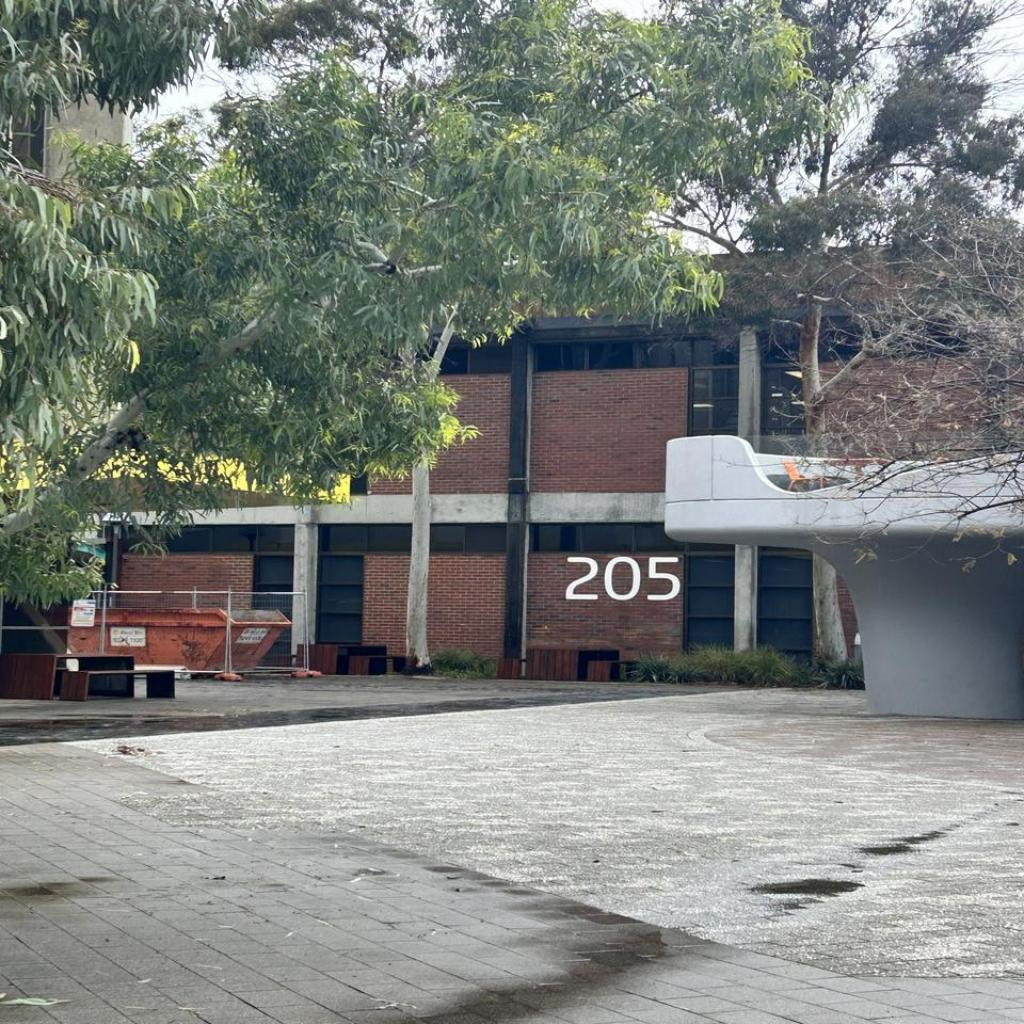BuildingCodes: (565, 553, 683, 603)
